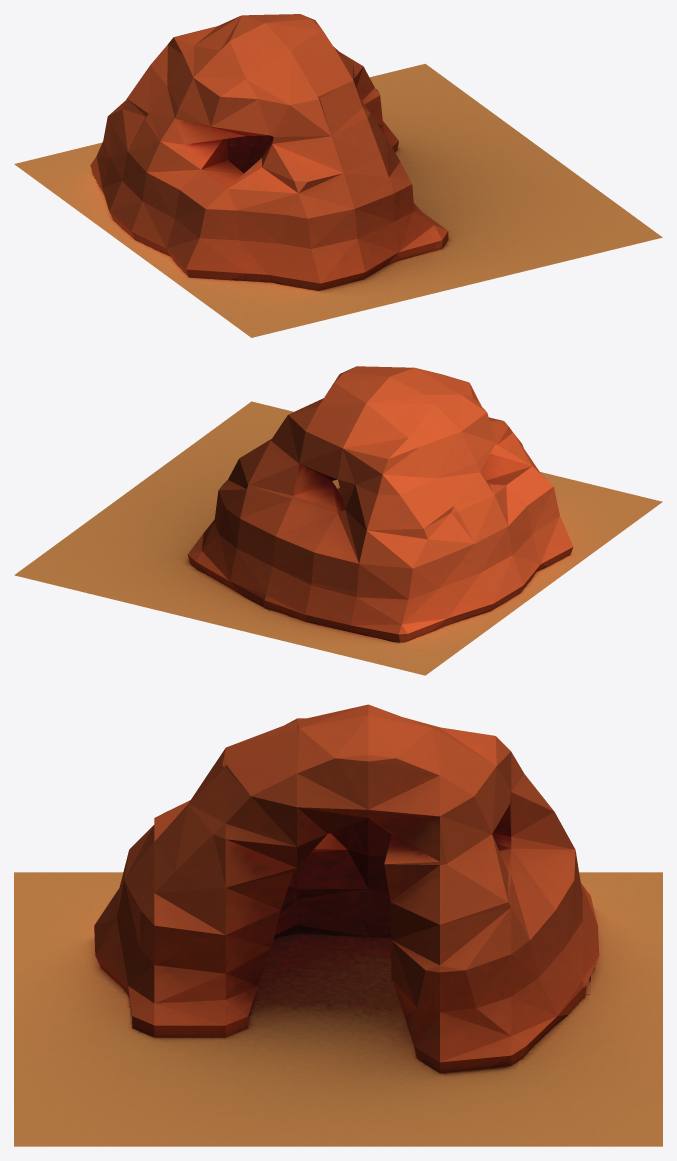
Rendered from metacave.gltf.
The picture shows the model from 3 angles, top to bottom: view 1: azimuth 30°, elevation 25°; view 2: azimuth 150°, elevation 25°; view 3: azimuth 270°, elevation 25°; orthographic projection. The views are drawn at different scales.
Visible parts, largest first — view 1: Mball.018, Grid; view 2: Mball.018, Grid; view 3: Mball.018, Grid.
Part boxes in pixels (x1,y1,x2,y2): Mball.018: (90, 14, 448, 290); Grid: (14, 63, 662, 337); Mball.018: (187, 366, 573, 642); Grid: (14, 401, 662, 675); Mball.018: (94, 704, 599, 1073); Grid: (14, 872, 662, 1146).
Size of the model in its own units: 15.33 by 7.6 by 15.33.
2 materials, 2 textured.
